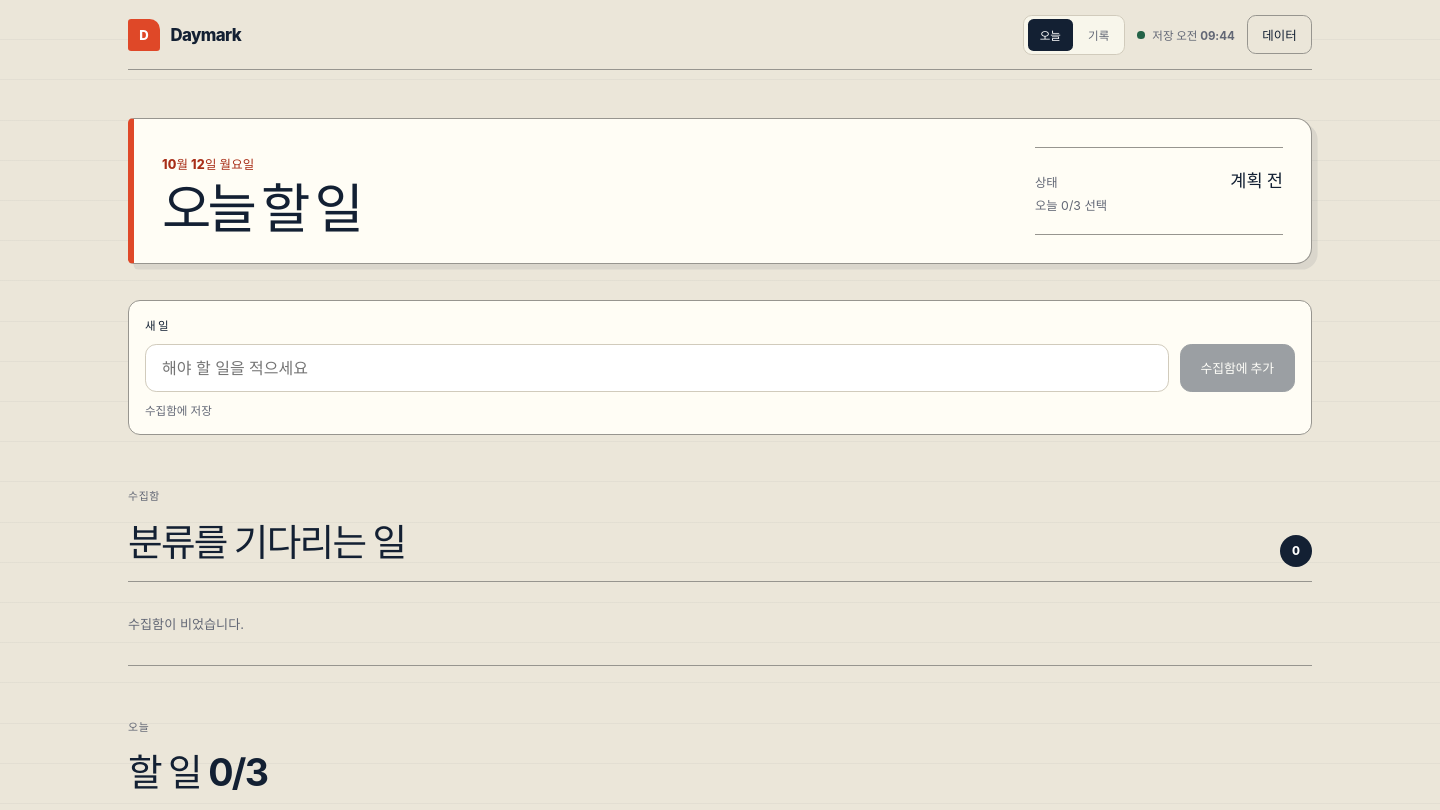
Test case: Daymark 첫 사용 흐름 › 설치 앱의 저장 공간 차이를 데이터 화면에서 안내한다
What coordinates should you click on to do the following:
click the button "데이터"
I would click on:
 (1279, 35)
Its box is top-left (1247, 16), bottom-right (1312, 54).
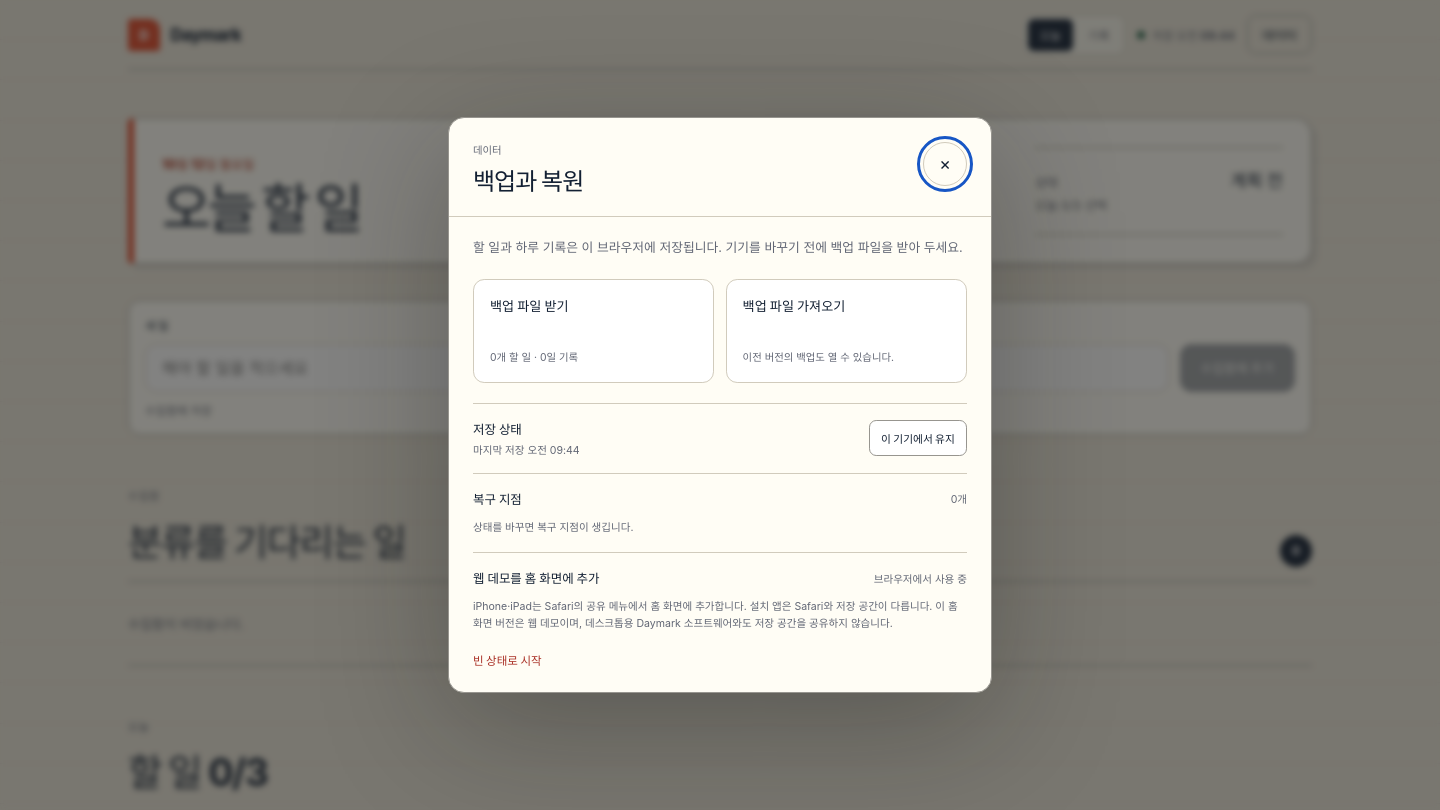
Expected: the text "설치 앱은 Safari와 저장 공간이 다릅니다" is shown, top-left (473, 600), bottom-right (958, 630)
Expected: the text "복구 지점" is shown, top-left (473, 490), bottom-right (522, 508)
